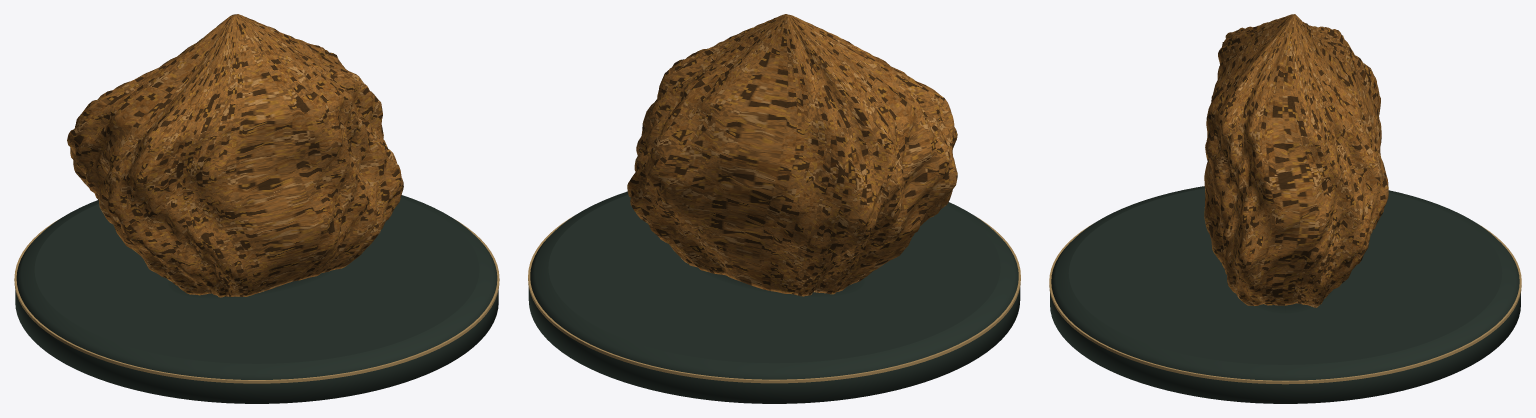
Rendered from lingstone-concept-08-v191-45406a0fc588.glb.
3 views of the same model, side by side, from view 1: azimuth 30°, elevation 25°; view 2: azimuth 150°, elevation 25°; view 3: azimuth 270°, elevation 25° (orthographic). The views are drawn at different scales.
Visible parts, largest first — view 1: XY-CONCEPT-008 concept stone, Centered beveled display plinth, Champagne gold edge; view 2: XY-CONCEPT-008 concept stone, Centered beveled display plinth, Champagne gold edge; view 3: Centered beveled display plinth, XY-CONCEPT-008 concept stone, Champagne gold edge.
Boxes of the visible parts, x1,y1,x2,y2 form: XY-CONCEPT-008 concept stone: (67, 14, 403, 297); Centered beveled display plinth: (15, 195, 498, 403); Champagne gold edge: (14, 219, 499, 383); XY-CONCEPT-008 concept stone: (627, 14, 957, 296); Centered beveled display plinth: (528, 191, 1020, 403); Champagne gold edge: (528, 217, 1020, 383); Centered beveled display plinth: (1050, 186, 1520, 403); XY-CONCEPT-008 concept stone: (1204, 14, 1388, 307); Champagne gold edge: (1049, 225, 1521, 384).
Size of the model in its own units: 2.41 by 1.6 by 2.41.
4 materials, 1 textured.
